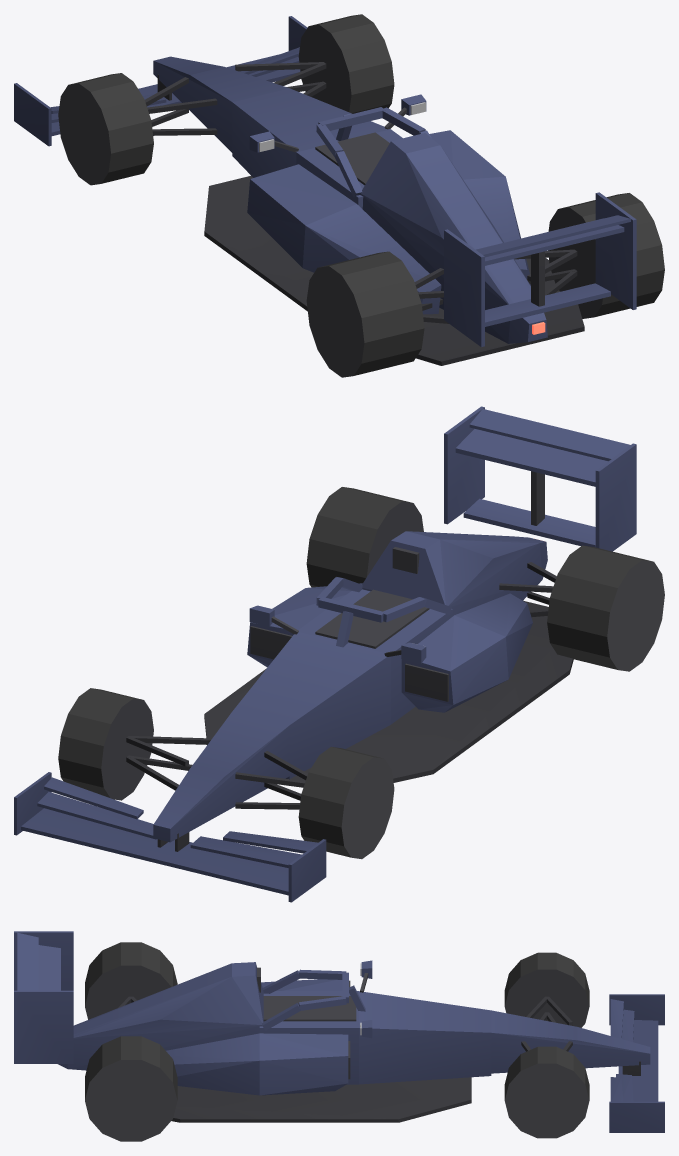
The model's file is veloce.glb.
The picture shows the model from 3 angles, top to bottom: view 1: azimuth 30°, elevation 25°; view 2: azimuth 150°, elevation 25°; view 3: azimuth 270°, elevation 25°; orthographic projection. The views are drawn at different scales.
Parts seen in each view (by area): view 1: Body, RearWing, Wheel_RL, Sidepod_L, Wheel_FL, Wheel_FR, Wheel_RR, Sidepod_R, FrontWing, Mirror_L; view 2: Body, RearWing, FrontWing, Wheel_RL, Sidepod_L, Wheel_FL, Wheel_FR, Wheel_RR, Sidepod_R; view 3: Body, Sidepod_R, Wheel_RR, RearWing, Wheel_FR, FrontWing, Wheel_RL, Wheel_FL, Sidepod_L.
Part boxes in pixels (box(x1,y1,x2,y2)): Body: box(144, 56, 584, 365); RearWing: box(444, 192, 636, 346); Wheel_RL: box(306, 251, 424, 377); Sidepod_L: box(247, 164, 441, 314); Wheel_FL: box(58, 73, 153, 185); Wheel_FR: box(298, 14, 394, 113); Wheel_RR: box(548, 193, 664, 318); Sidepod_R: box(429, 130, 530, 285); FrontWing: box(14, 16, 307, 146); Mirror_L: box(249, 131, 298, 152); Body: box(126, 531, 573, 842); RearWing: box(444, 406, 636, 551); FrontWing: box(14, 772, 326, 902); Wheel_RL: box(547, 545, 664, 671); Sidepod_L: box(401, 593, 532, 712); Wheel_FL: box(298, 746, 394, 859); Wheel_FR: box(58, 688, 153, 800); Wheel_RR: box(306, 487, 423, 587); Sidepod_R: box(247, 583, 362, 667); Body: box(58, 962, 650, 1122); Sidepod_R: box(166, 1033, 350, 1095); Wheel_RR: box(85, 1036, 177, 1141); RearWing: box(14, 931, 73, 1063); Wheel_FR: box(504, 1046, 589, 1138); FrontWing: box(609, 994, 664, 1132); Wheel_RL: box(85, 942, 177, 1019); Wheel_FL: box(504, 952, 589, 1027); Sidepod_L: box(261, 979, 350, 990).
Size of the model in its own units: 2.1 by 1.01 by 4.91.
